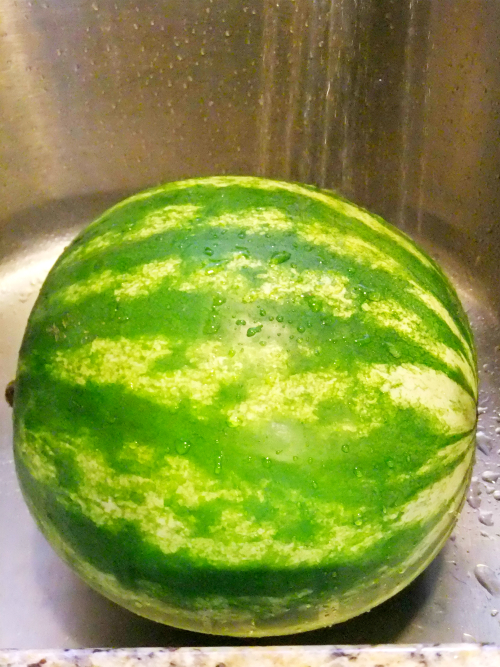watermelon: (14, 177, 479, 638)
